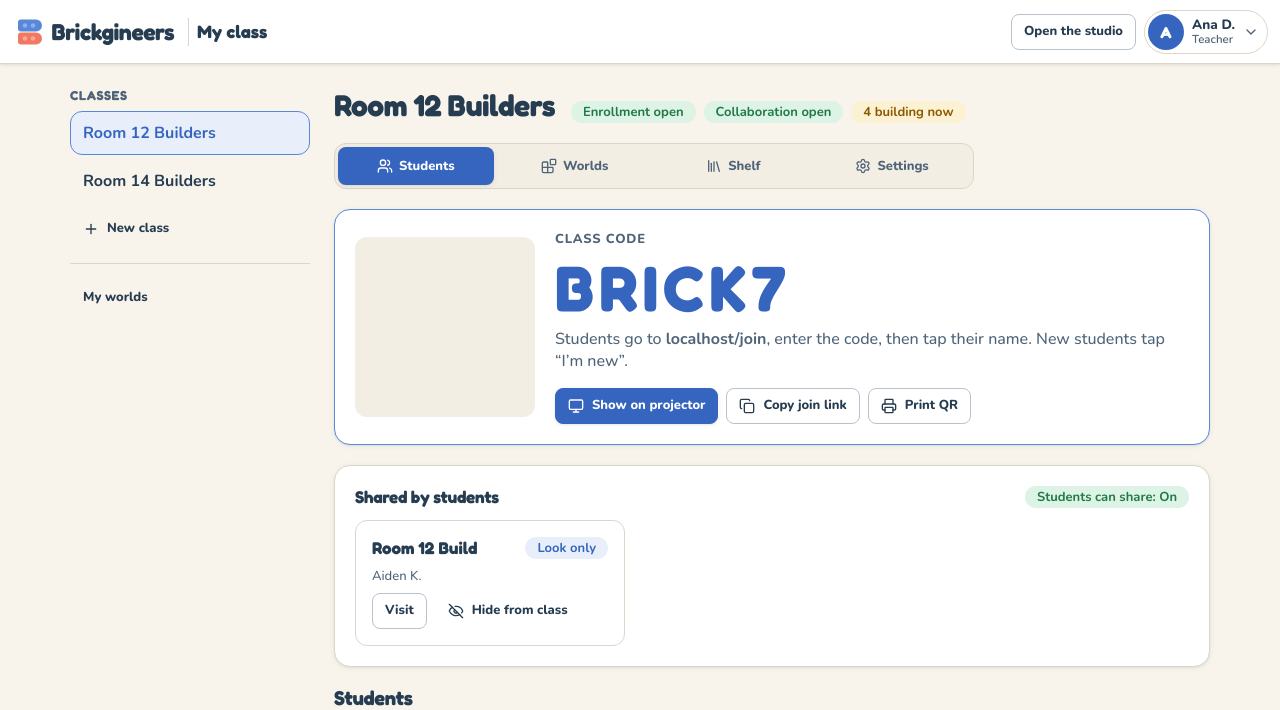
Scenario: scopes shared-by-students worlds to the selected class for a teacher with more than one class
Check: the text "Room 12 Build" is shown, box x1=372 y1=537 x2=477 y2=558
Click the button "Room 14 Builders".
click(190, 181)  # box x1=70 y1=159 x2=310 y2=203
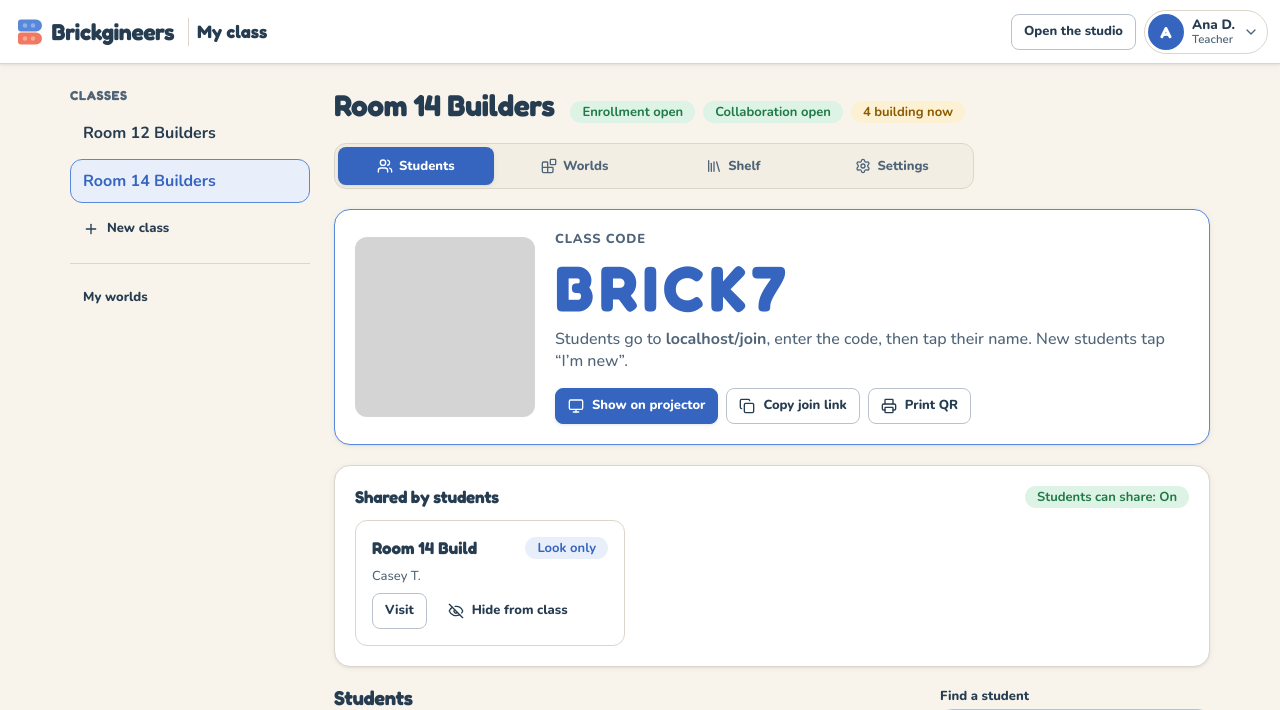
Check: the text "Room 14 Build" is shown, box x1=372 y1=537 x2=477 y2=558
